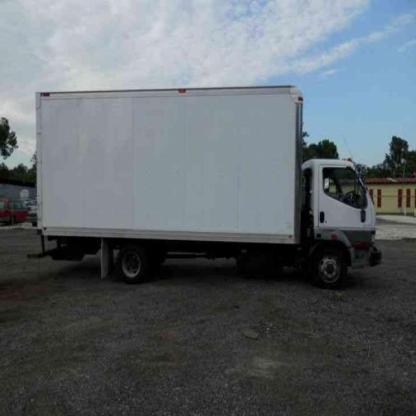truck: (36, 84, 387, 289)
